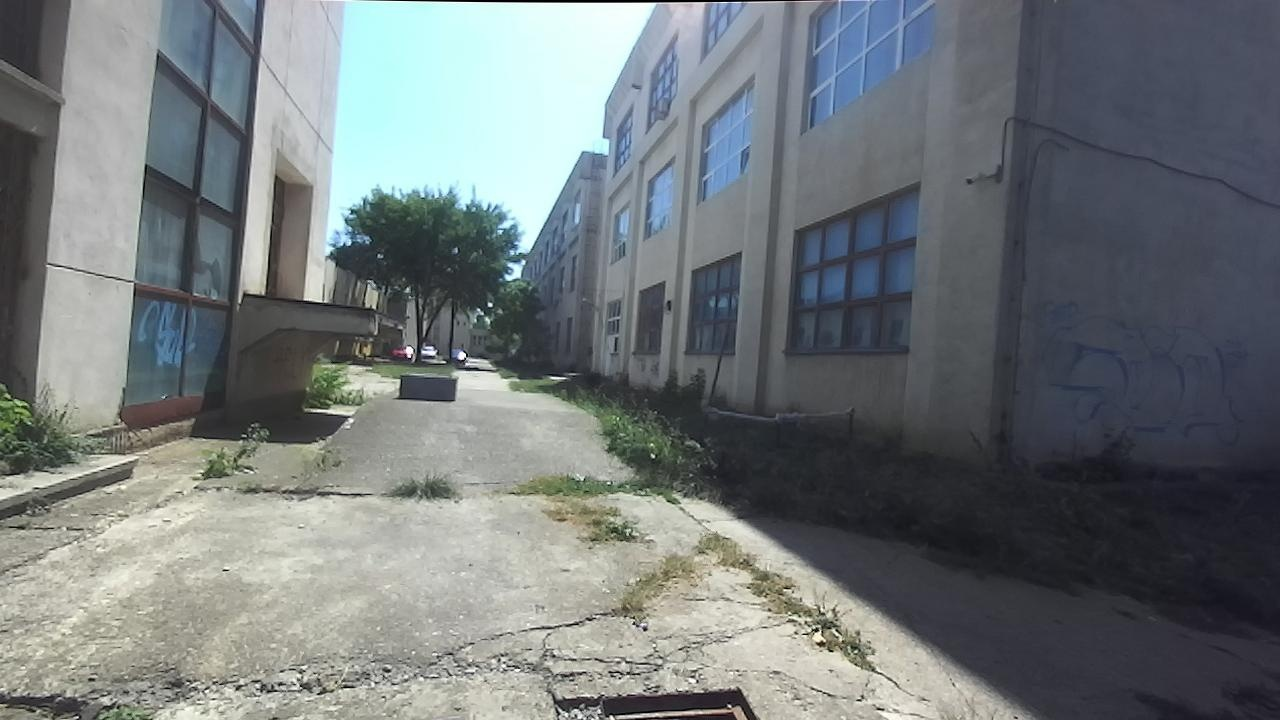drain: (592, 684, 768, 720)
